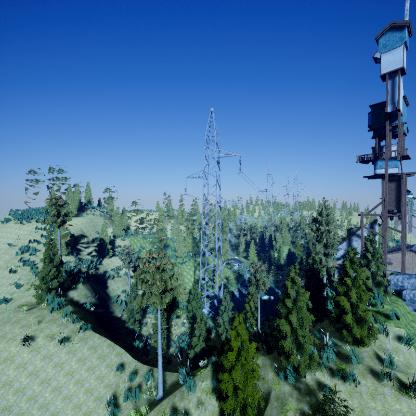tower: (182, 107, 243, 310)
